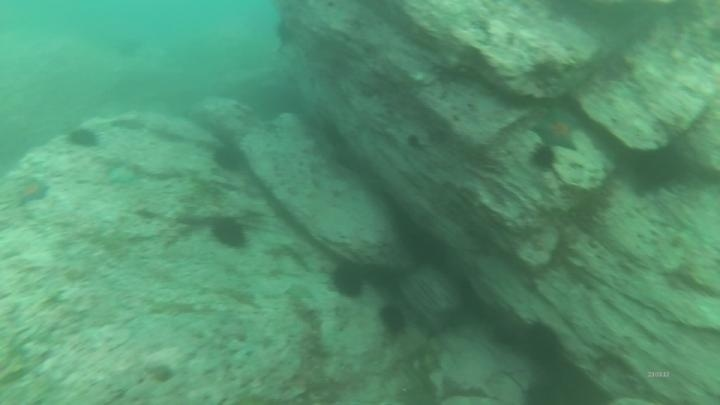echinus: (624, 141, 691, 197), (520, 320, 564, 368), (327, 258, 369, 301), (208, 214, 250, 252), (376, 301, 410, 338), (210, 141, 247, 175), (64, 125, 102, 152), (528, 143, 559, 173)
holothurian: (560, 224, 610, 292)
starfish: (532, 107, 583, 152), (13, 175, 52, 208), (104, 162, 140, 188)
